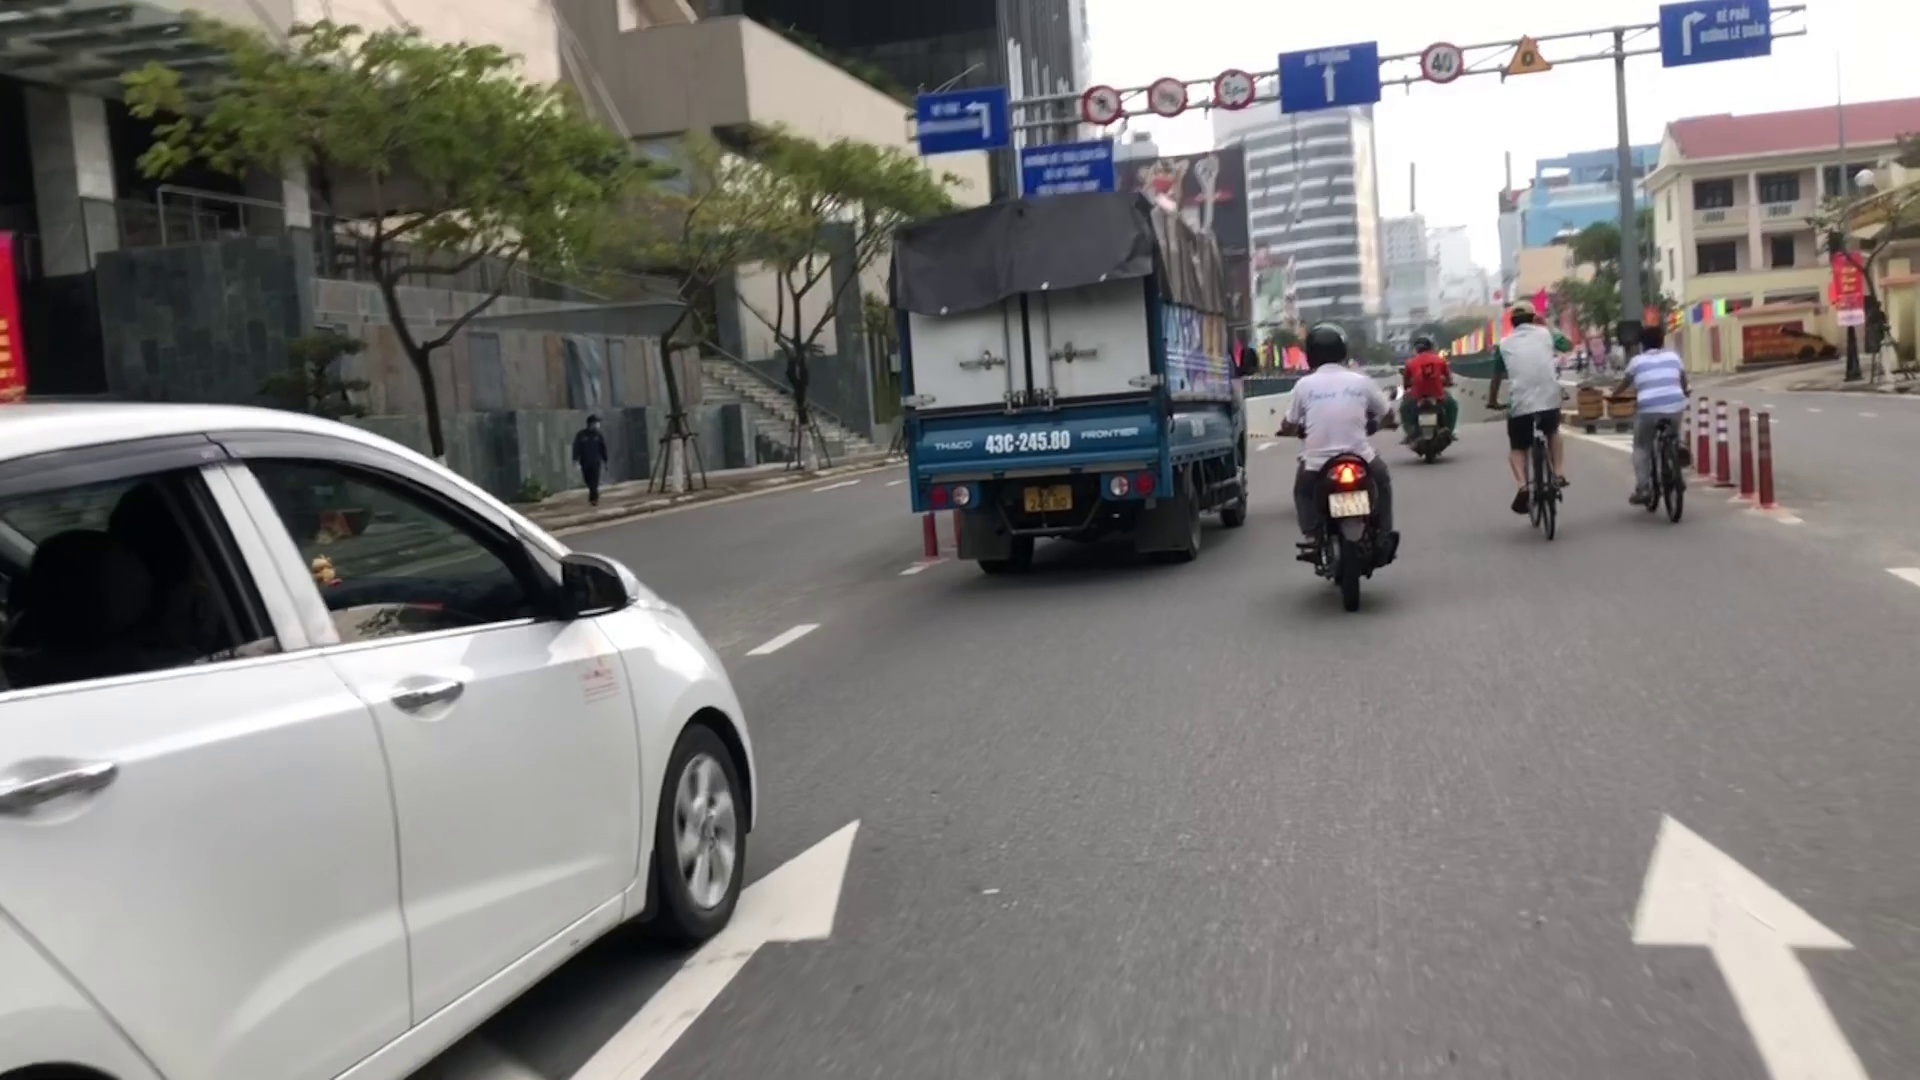Bien khac: (1422, 36, 1462, 84)
